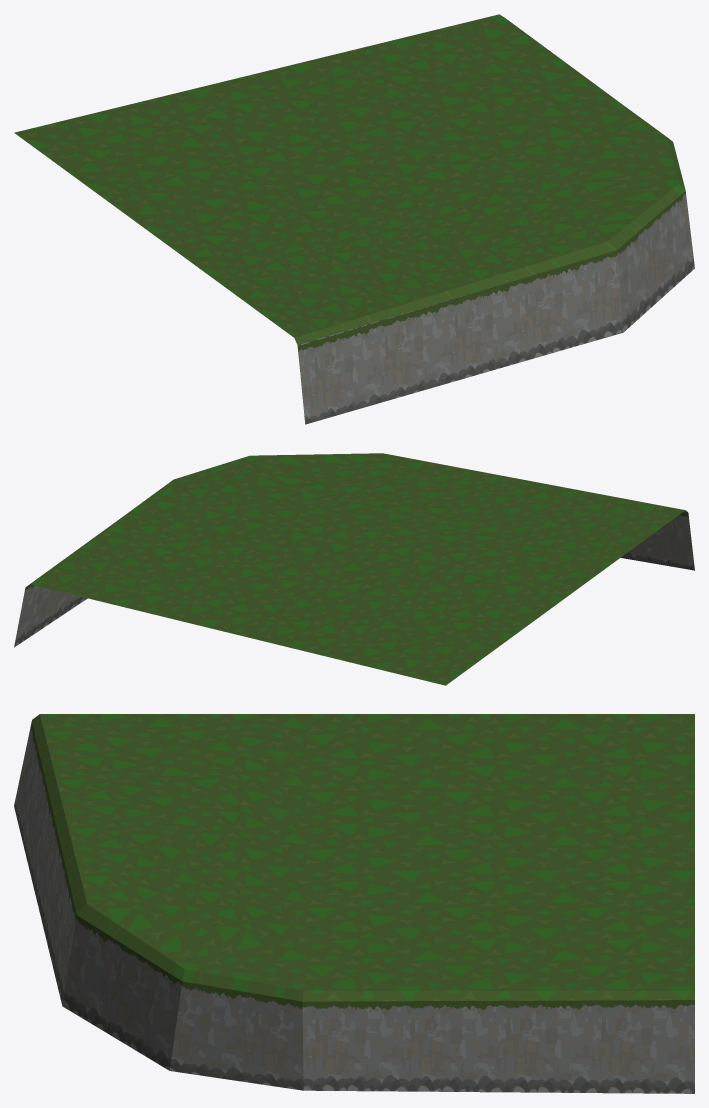
Rendered from chunk_0007.glb.
3 views of the same model, one above another, from view 1: azimuth 30°, elevation 25°; view 2: azimuth 150°, elevation 25°; view 3: azimuth 270°, elevation 25° (orthographic). The views are drawn at different scales.
Parts seen in each view (by area): view 1: chunk_0007; view 2: chunk_0007; view 3: chunk_0007.
Boxes of the visible parts, x1=… form: chunk_0007: x1=14, y1=14, x2=694, y2=424; chunk_0007: x1=14, y1=453, x2=694, y2=685; chunk_0007: x1=14, y1=714, x2=694, y2=1093.
Size of the model in its own units: 8.7 by 1.39 by 8.7.
2 materials, 2 textured.
